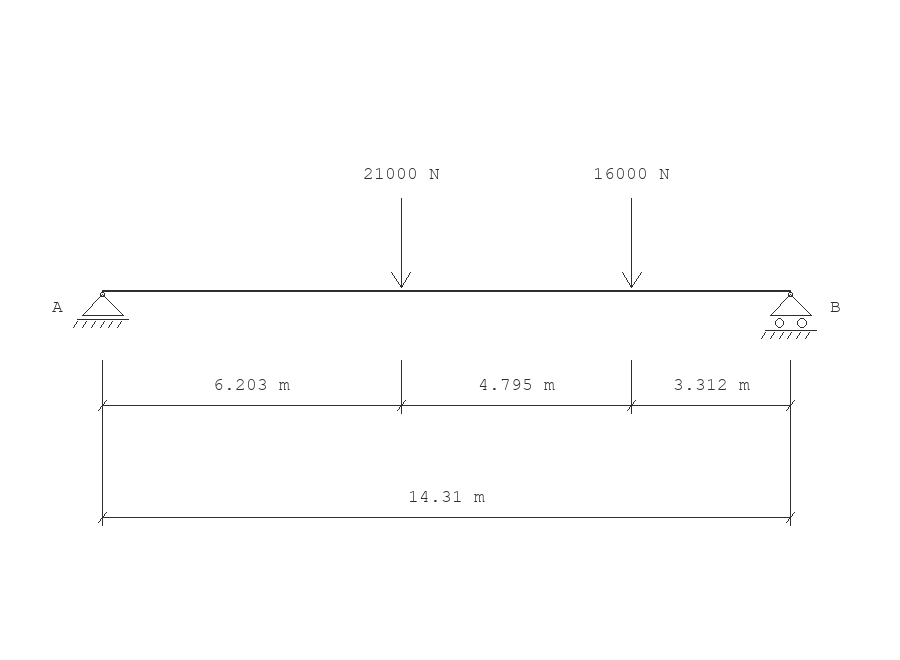pin_support: (73, 292, 129, 328)
point_load: (391, 198, 411, 288), (622, 198, 642, 288)
roller_support: (761, 292, 817, 339)
